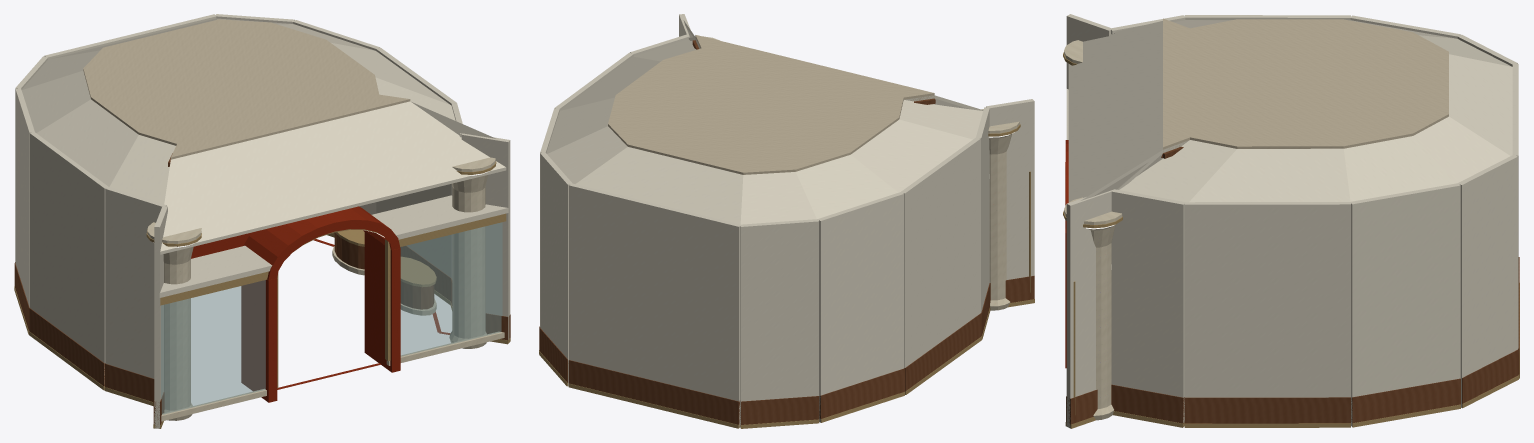
File: AST-RTL-002.glb
3 renders of one model, left to right at view 1: azimuth 30°, elevation 25°; view 2: azimuth 150°, elevation 25°; view 3: azimuth 270°, elevation 25°, orthographic. The views are drawn at different scales.
Parts seen in each view (by area): view 1: CUR_RaisedCeiling, CUR_CeilingSoffit_11, CUR_Wall_02, CUR_FrontGlass_-1, CUR_FrontGlass_1, CUR_Wall_01, CUR_StreetColumn_1, CUR_CeilingSoffit_02, CUR_StreetColumn_-1, CUR_Wall_10, CUR_PortalJamb_-1, CUR_PortalJamb_1 (+27 smaller); view 2: CUR_Wall_05, CUR_RaisedCeiling, CUR_Wall_03, CUR_Wall_04, CUR_Wall_02, CUR_CeilingSoffit_05, CUR_Wall_06, CUR_Wall_00, CUR_CeilingSoffit_02, CUR_Dado_05, CUR_CeilingSoffit_03, CUR_StreetColumn_-1 (+15 smaller); view 3: CUR_RaisedCeiling, CUR_Wall_08, CUR_Wall_07, CUR_Wall_09, CUR_CeilingSoffit_11, CUR_Wall_06, CUR_CeilingSoffit_08, CUR_Wall_10, CUR_CeilingSoffit_05, CUR_CeilingSoffit_07, CUR_Dado_08, CUR_CeilingSoffit_09 (+14 smaller).
Part boxes in pixels (bbox=[...]): CUR_RaisedCeiling: bbox=[83, 19, 410, 159]; CUR_CeilingSoffit_11: bbox=[160, 101, 506, 254]; CUR_Wall_02: bbox=[30, 132, 108, 383]; CUR_FrontGlass_-1: bbox=[161, 280, 265, 414]; CUR_FrontGlass_1: bbox=[400, 222, 502, 356]; CUR_Wall_01: bbox=[105, 187, 166, 378]; CUR_StreetColumn_1: bbox=[449, 157, 495, 348]; CUR_CeilingSoffit_02: bbox=[36, 99, 138, 186]; CUR_StreetColumn_-1: bbox=[147, 222, 201, 420]; CUR_Wall_10: bbox=[461, 133, 510, 339]; CUR_PortalJamb_-1: bbox=[241, 278, 277, 402]; CUR_PortalJamb_1: bbox=[364, 231, 400, 372]; CUR_Wall_05: bbox=[569, 183, 741, 427]; CUR_RaisedCeiling: bbox=[608, 35, 934, 174]; CUR_Wall_03: bbox=[817, 192, 904, 422]; CUR_Wall_04: bbox=[740, 219, 819, 427]; CUR_Wall_02: bbox=[901, 137, 980, 367]; CUR_CeilingSoffit_05: bbox=[575, 147, 743, 224]; CUR_Wall_06: bbox=[540, 152, 572, 386]; CUR_Wall_00: bbox=[986, 99, 1034, 279]; CUR_CeilingSoffit_02: bbox=[851, 119, 972, 192]; CUR_Dado_05: bbox=[568, 360, 740, 424]; CUR_CeilingSoffit_03: bbox=[796, 154, 898, 218]; CUR_StreetColumn_-1: bbox=[981, 109, 1019, 310]; CUR_RaisedCeiling: bbox=[1163, 18, 1448, 152]; CUR_Wall_08: bbox=[1184, 202, 1350, 397]; CUR_Wall_07: bbox=[1350, 183, 1460, 426]; CUR_Wall_09: bbox=[1110, 189, 1185, 422]; CUR_CeilingSoffit_11: bbox=[1068, 21, 1162, 202]; CUR_Wall_06: bbox=[1457, 155, 1517, 407]; CUR_CeilingSoffit_08: bbox=[1189, 148, 1350, 202]; CUR_Wall_10: bbox=[1066, 190, 1111, 427]; CUR_CeilingSoffit_05: bbox=[1449, 54, 1512, 155]; CUR_CeilingSoffit_07: bbox=[1344, 136, 1455, 201]; CUR_Dado_08: bbox=[1184, 397, 1350, 423]; CUR_CeilingSoffit_09: bbox=[1119, 140, 1236, 202].
Size of the model in its own units: 11.77 by 7.12 by 11.8.
Materials: 8 (6 with a texture image).
